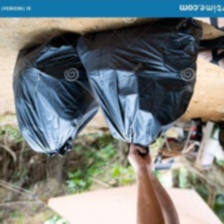plastic_bag: (69, 14, 207, 154), (11, 28, 105, 159)
